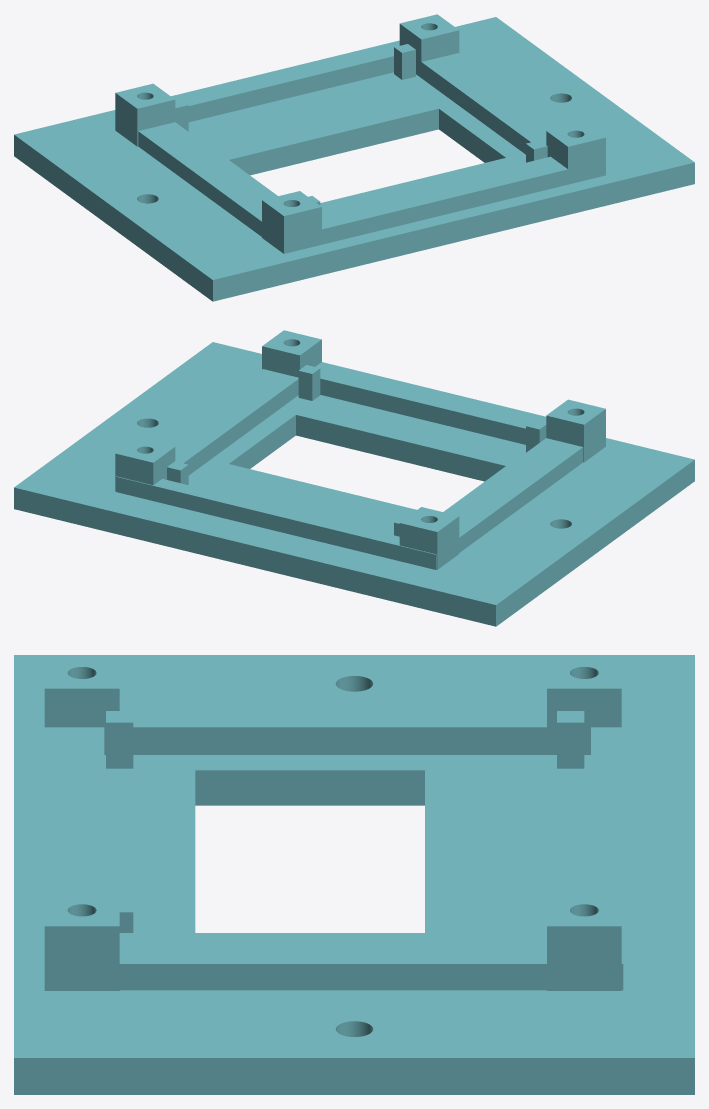
File: front_oled.glb
The picture shows the model from 3 angles, top to bottom: view 1: azimuth 30°, elevation 25°; view 2: azimuth 150°, elevation 25°; view 3: azimuth 270°, elevation 25°; orthographic projection. The views are drawn at different scales.
Visible parts, largest first — view 1: front_oled; view 2: front_oled; view 3: front_oled.
Part boxes in pixels (x1=…): front_oled: x1=14, y1=14, x2=694, y2=301; front_oled: x1=14, y1=330, x2=694, y2=626; front_oled: x1=14, y1=655, x2=694, y2=1094.
Size of the model in its own units: 0.056 by 0.0066 by 0.04.
